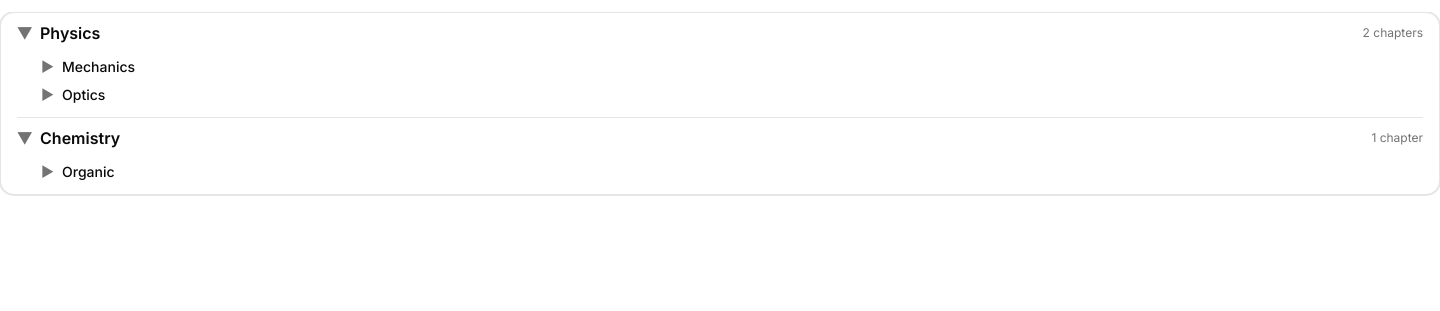
Scenario: SyllabusTree › clicking a topic reveals its subtopics
Click the button "▶ Mechanics". click: (88, 67)
box: left=41, top=53, right=135, bottom=81
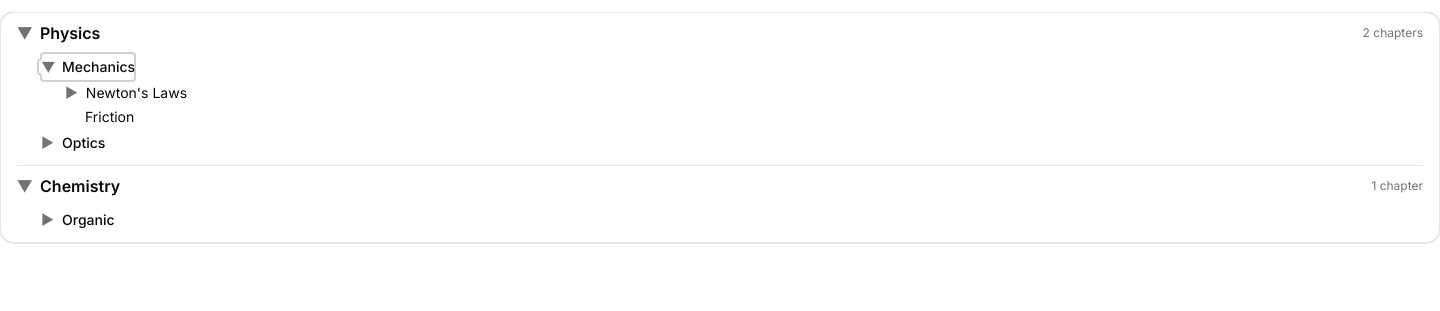
Click the button "▶ Newton's Laws". click: (126, 93)
box: left=65, top=81, right=187, bottom=105
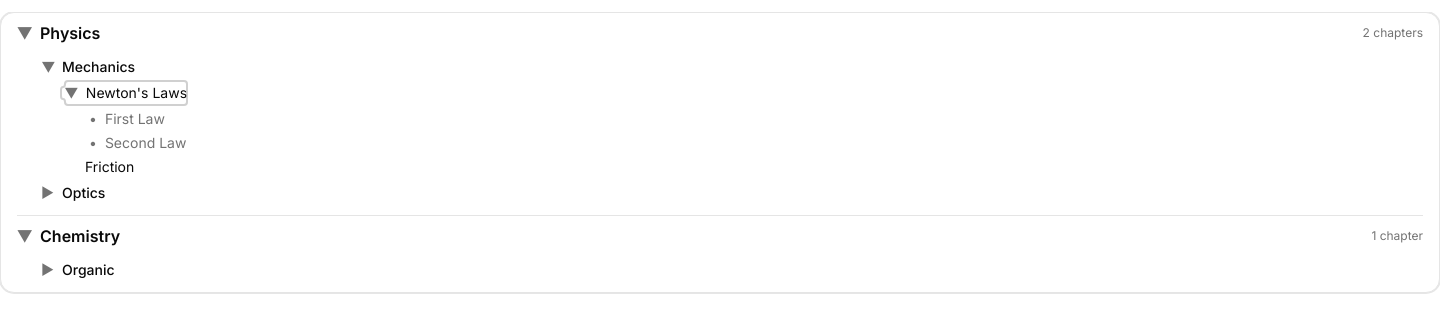
Result: the list item "First Law" is shown at left=105, top=110, right=165, bottom=127
Result: the list item "Second Law" is shown at left=105, top=134, right=186, bottom=151
